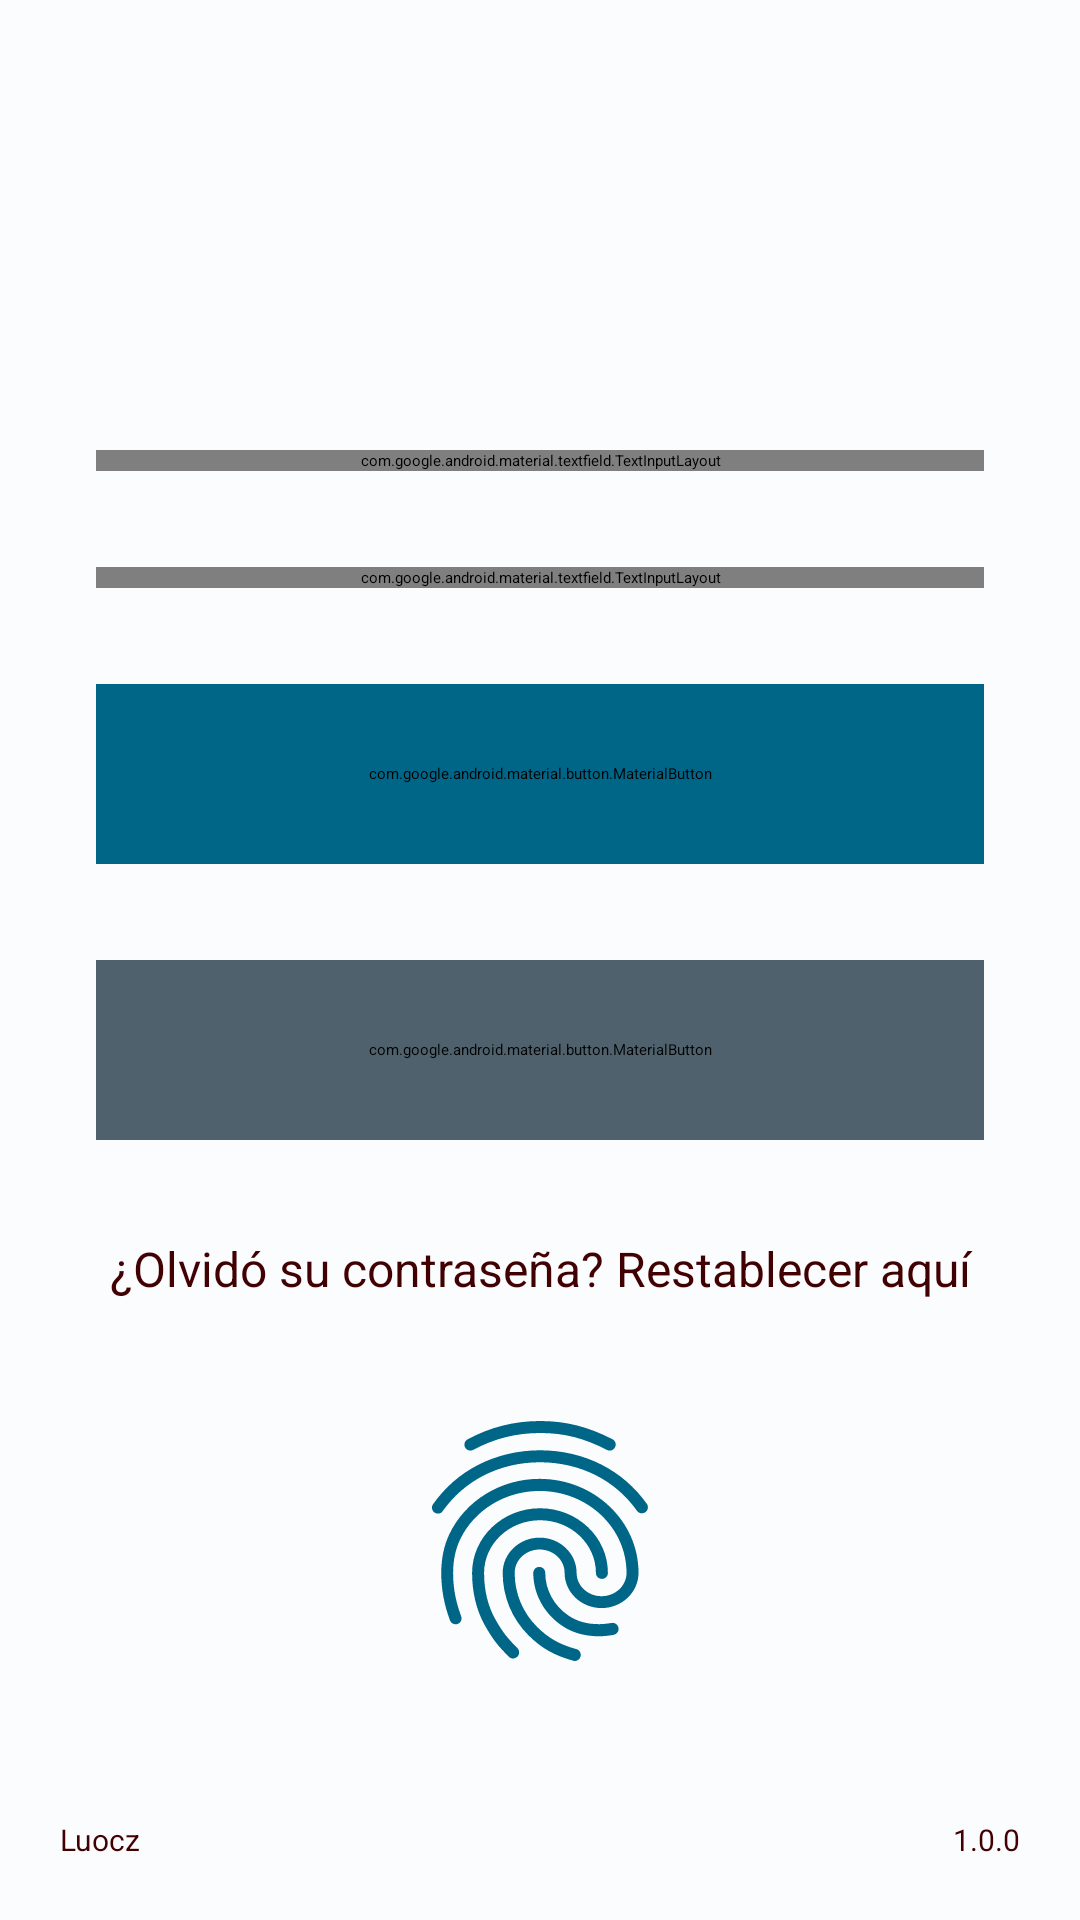

Icon click points for this 1080w x 1920h phone screenshot, format point (x, y):
fingerprint: point (540, 1541)
